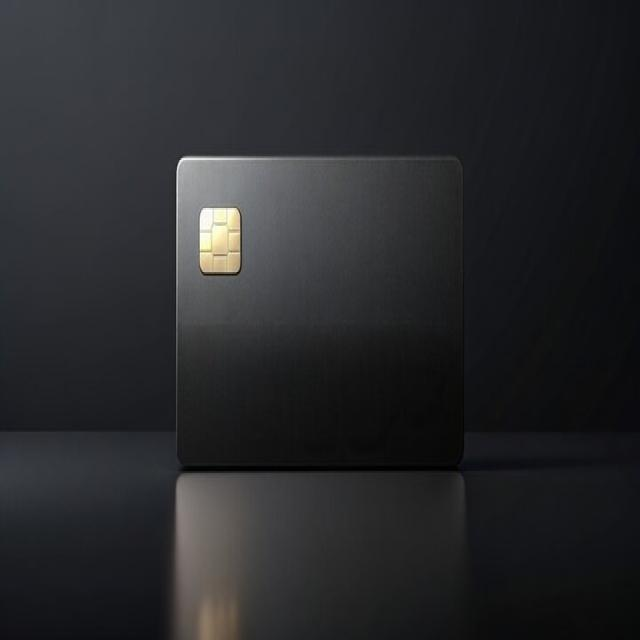payment_card: (174, 154, 465, 470)
